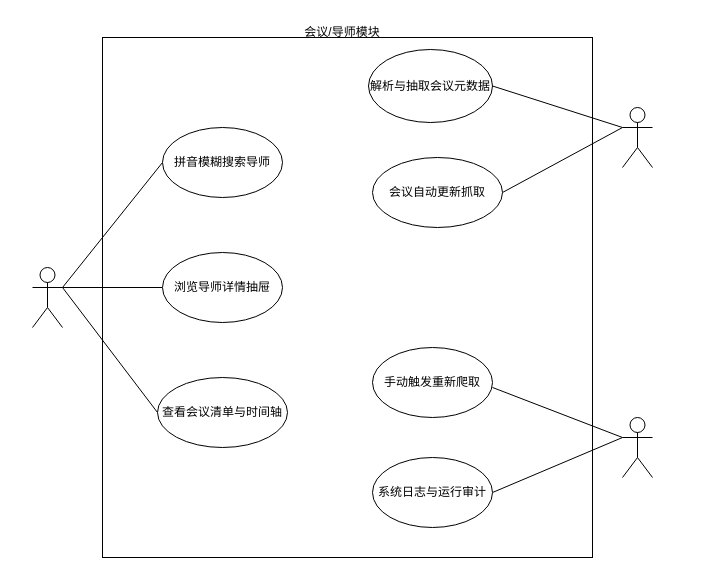
The diagram is 702 pixels wide and 575 high, and some of its shapes have lost their labels. The centre of each missing label's shape, as x and y in pixels:
匿名访客 （免登录）: the point at 47,297
外部系统 （爬虫自动更新）: the point at 637,137
管理员 （手动重爬）: the point at 637,447
